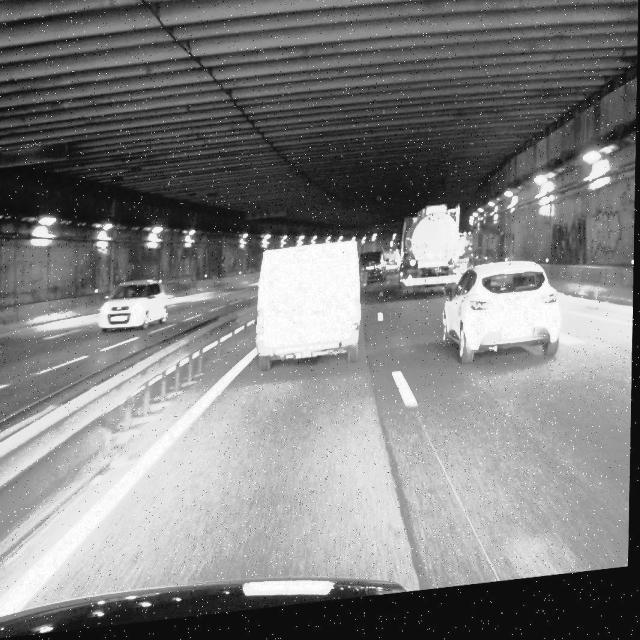Car: (254, 238, 359, 368), (436, 260, 559, 366)
Truck: (401, 201, 467, 298)
